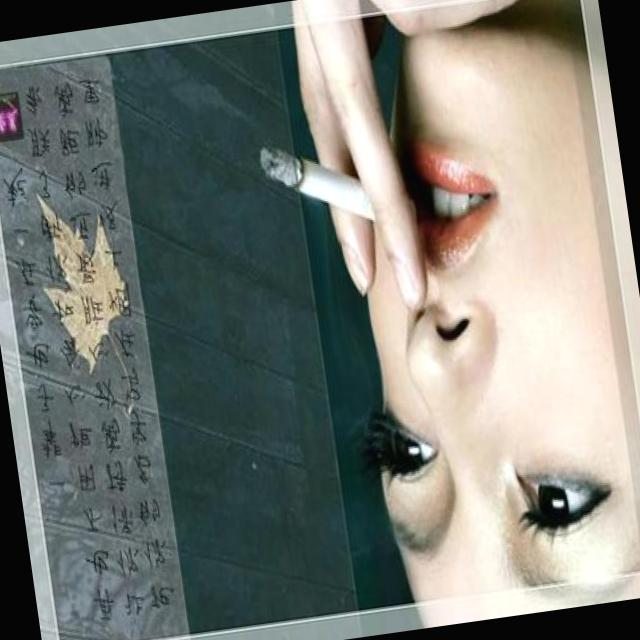cigarette: (252, 120, 435, 254)
